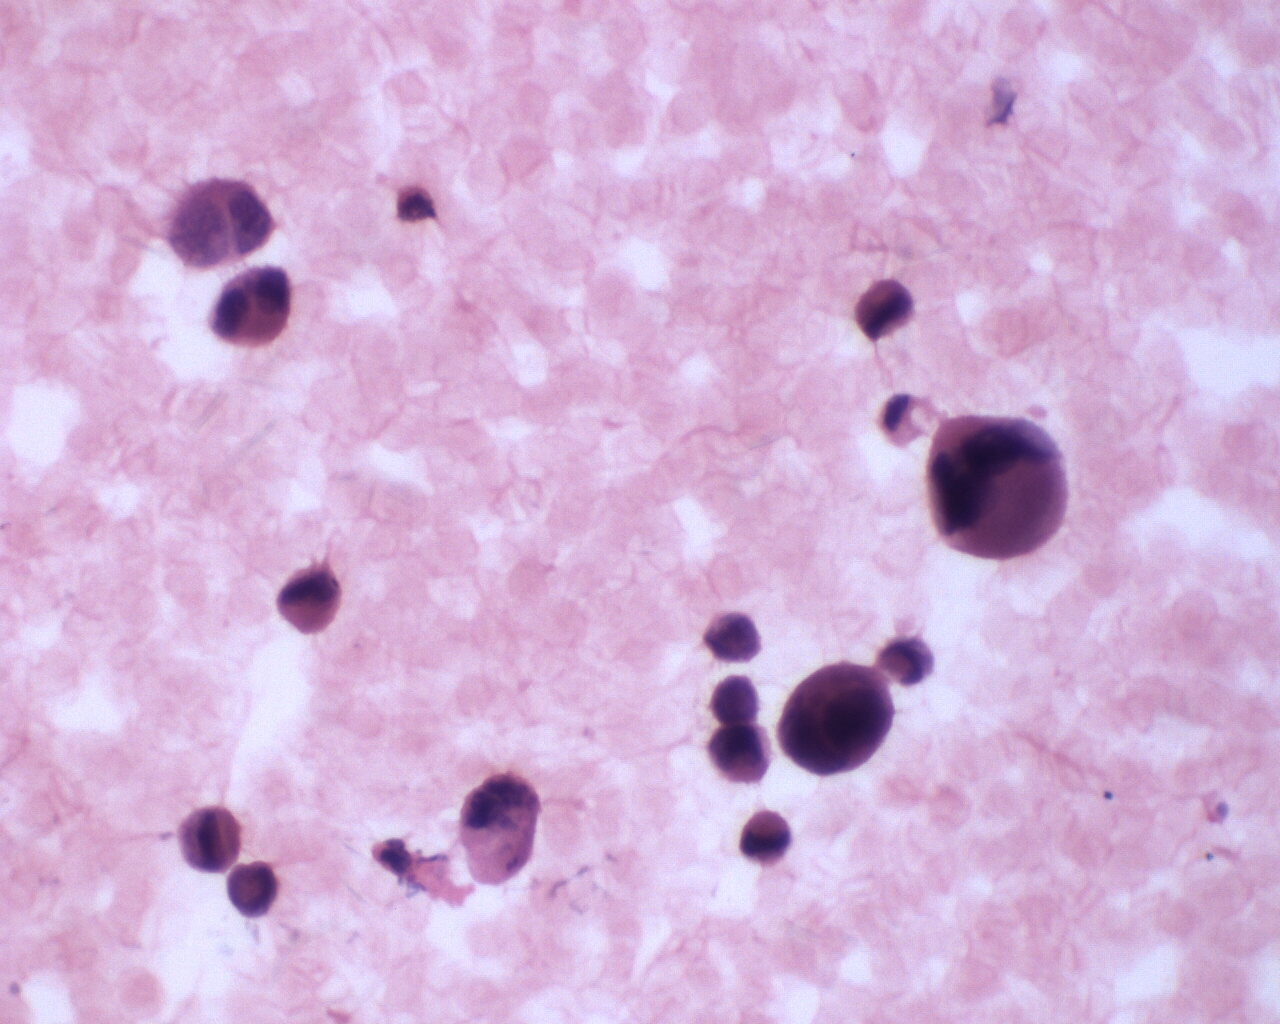ab: (927, 408, 1076, 565), (778, 661, 898, 779), (708, 722, 778, 792)
